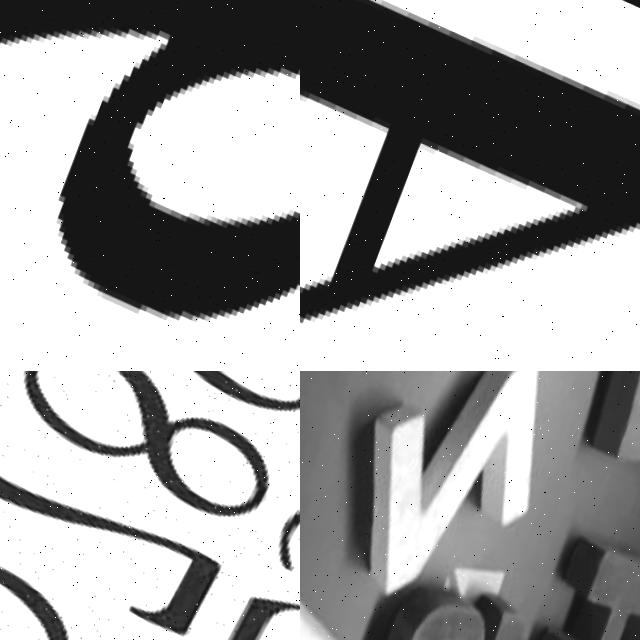6: (0, 529, 194, 640)
7: (0, 412, 240, 640)
8: (0, 371, 300, 548)
9: (0, 0, 300, 371), (44, 371, 300, 443)
A: (300, 0, 640, 371), (528, 515, 640, 640)
S: (354, 539, 547, 640)
Z: (316, 371, 576, 640)
